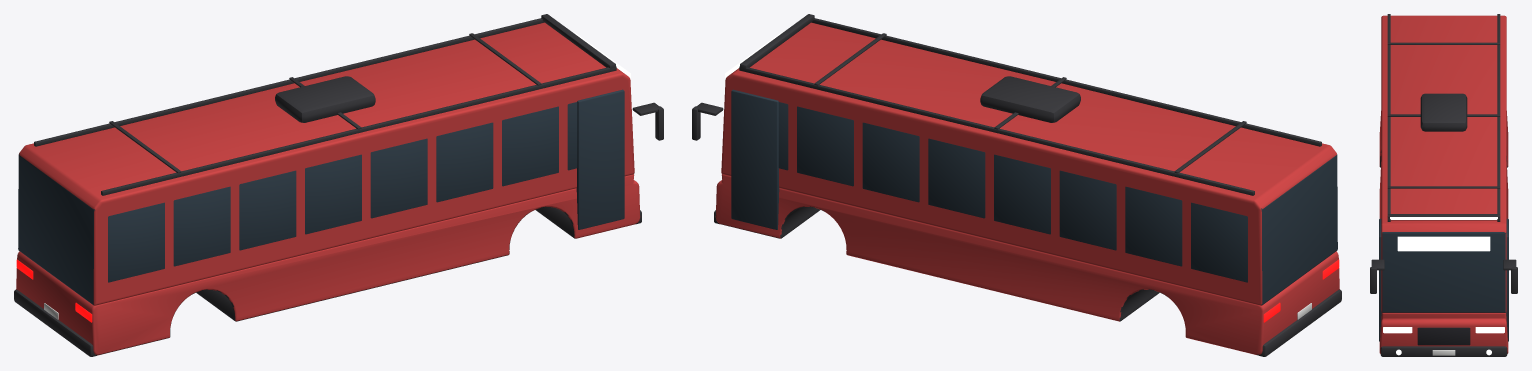
File: onibus_urbano.glb
3 views of the same model, side by side, from view 1: azimuth 30°, elevation 25°; view 2: azimuth 150°, elevation 25°; view 3: azimuth 270°, elevation 25° (orthographic). The views are drawn at different scales.
Parts seen in each view (by area): view 1: cabine, carroceria, porta, janela2, janela5, janela6, janela3, janela7, janela4, janela1, bagageiro, rack_trilho (+4 smaller); view 2: cabine, carroceria, porta, janela2, janela5, janela6, janela3, janela7, janela4, janela1, bagageiro, rack_trilho.001 (+4 smaller); view 3: cabine, carroceria, bagageiro, letreiro, parachoque_d, grade, rack_trilho, rack_trilho.001, porta, led_suporte, rack_barra.002, rack_barra (+9 smaller).
Part boxes in pixels (x1,y1,x2,y2): cabine: (18,22,634,305); carroceria: (16,174,640,355); porta: (576,89,624,229); janela2: (436,122,493,202); janela5: (239,170,296,250); janela6: (173,186,230,266); janela3: (370,138,427,218); janela7: (108,202,164,282); janela4: (305,154,361,234); janela1: (502,106,558,186); bagageiro: (275,76,375,122); rack_trilho: (101,66,616,195); cabine: (721,22,1337,305); carroceria: (715,174,1339,355); porta: (731,89,779,229); janela2: (862,122,919,202); janela5: (1059,170,1116,250); janela6: (1125,186,1182,266); janela3: (928,138,985,218); janela7: (1191,202,1247,282); janela4: (994,154,1050,234); janela1: (797,106,853,186); bagageiro: (980,76,1080,122); rack_trilho.001: (739,66,1254,195); cabine: (1381,15,1506,312); carroceria: (1379,111,1508,353); bagageiro: (1420,93,1467,131); letreiro: (1397,236,1490,251); parachoque_d: (1380,346,1507,356); grade: (1417,327,1470,345); rack_trilho: (1387,14,1390,221); rack_trilho.001: (1497,14,1500,221); porta: (1379,218,1508,341); led_suporte: (1387,214,1500,220); rack_barra.002: (1387,186,1500,188); rack_barra: (1387,42,1500,44).
Size of the model in its own units: 10.39 by 2.98 by 2.86.
